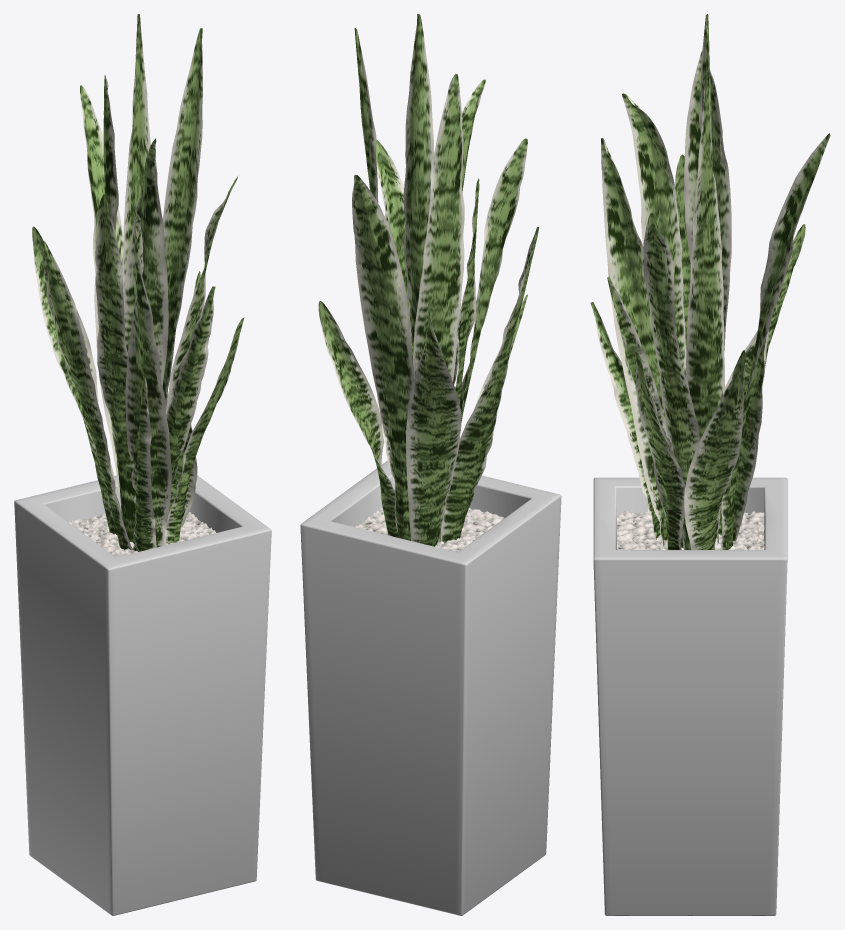
Rendered from tree_type_3.glb.
3 views of the same model, side by side, from view 1: azimuth 30°, elevation 25°; view 2: azimuth 150°, elevation 25°; view 3: azimuth 270°, elevation 25° (orthographic). The views are drawn at different scales.
Visible parts, largest first — view 1: sansevieriapot, sansevieriaplant, sansevieriagravel; view 2: sansevieriapot, sansevieriaplant, sansevieriagravel; view 3: sansevieriapot, sansevieriaplant, sansevieriagravel.
Part boxes in pixels (x1,y1,x2,y2): sansevieriapot: [14, 475, 271, 915]; sansevieriaplant: [32, 14, 244, 551]; sansevieriagravel: [69, 512, 215, 557]; sansevieriapot: [300, 460, 561, 915]; sansevieriaplant: [318, 14, 538, 546]; sansevieriagravel: [355, 508, 504, 552]; sansevieriapot: [593, 477, 787, 915]; sansevieriaplant: [590, 14, 830, 549]; sansevieriagravel: [617, 510, 764, 549].
Size of the model in its own units: 0.389 by 1.68 by 0.4206.
Materials: 3 (2 with a texture image).
